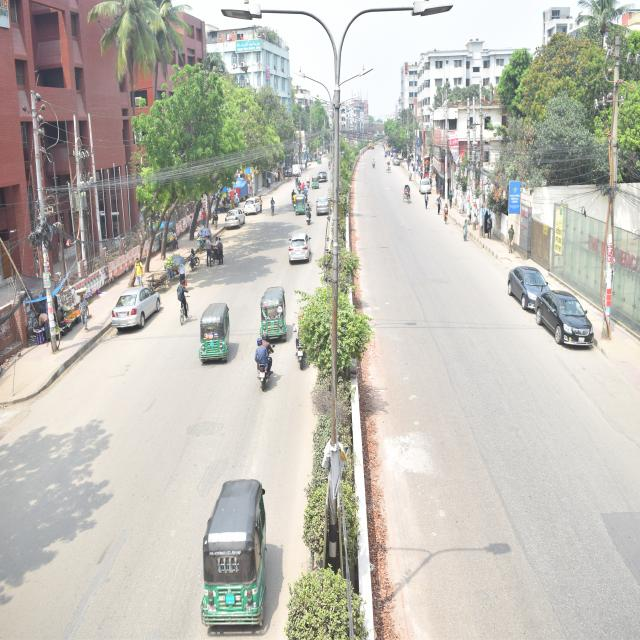car: (524, 269, 611, 355), (497, 248, 572, 317), (105, 271, 170, 350), (310, 189, 344, 240), (290, 227, 321, 281), (224, 192, 244, 258), (238, 179, 262, 233), (411, 174, 446, 207), (316, 161, 332, 194)
motorbike: (249, 327, 282, 445), (286, 294, 323, 381), (207, 232, 237, 275), (181, 240, 203, 278), (366, 152, 378, 184), (288, 185, 301, 211), (302, 199, 314, 226), (299, 182, 311, 202), (292, 171, 300, 193), (304, 176, 314, 191)
pickup-van: (286, 156, 308, 187)
